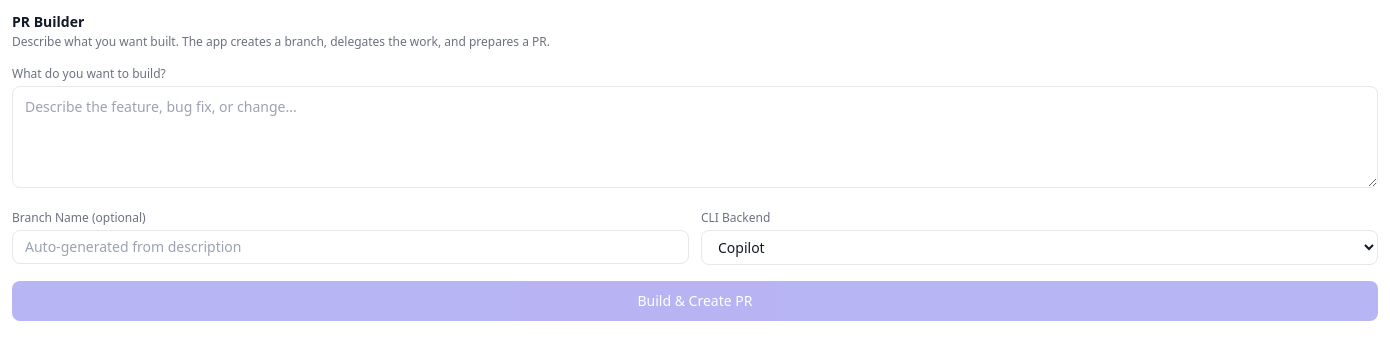
Test: PRBuilder › shows Delegating... while working
Type "Build dashboard" into the text box with placeholder "Describe the feature, bug fix, or change...".
click(695, 137); type("Build dashboard")  # box [12,86,1378,188]
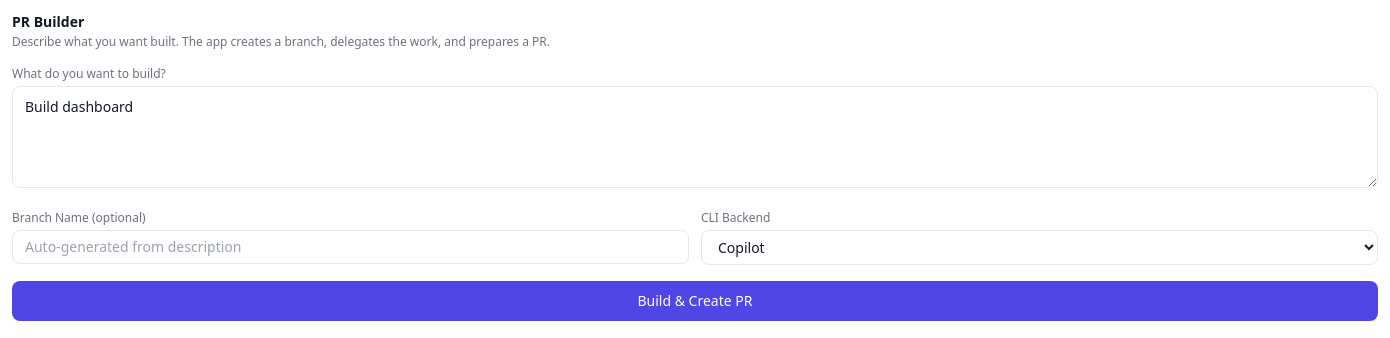
Click the button "Build & Create PR".
click(695, 301)  # box [12,281,1378,321]
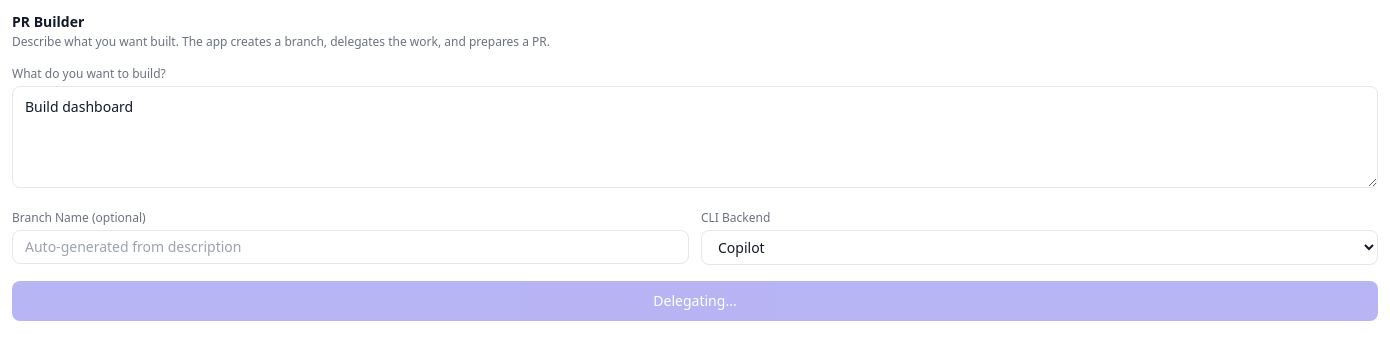
Expected: the button "Delegating..." is shown, [12,281,1378,321]
